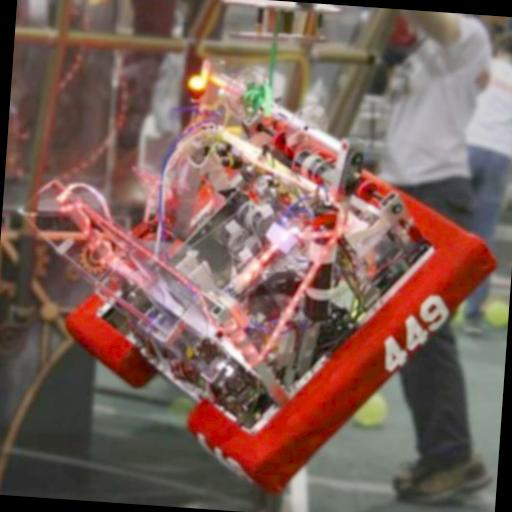robot: (50, 49, 512, 507)
